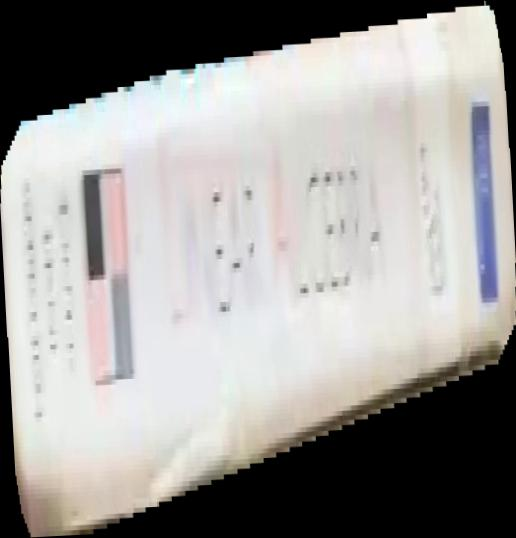flat: (1, 1, 516, 538)
